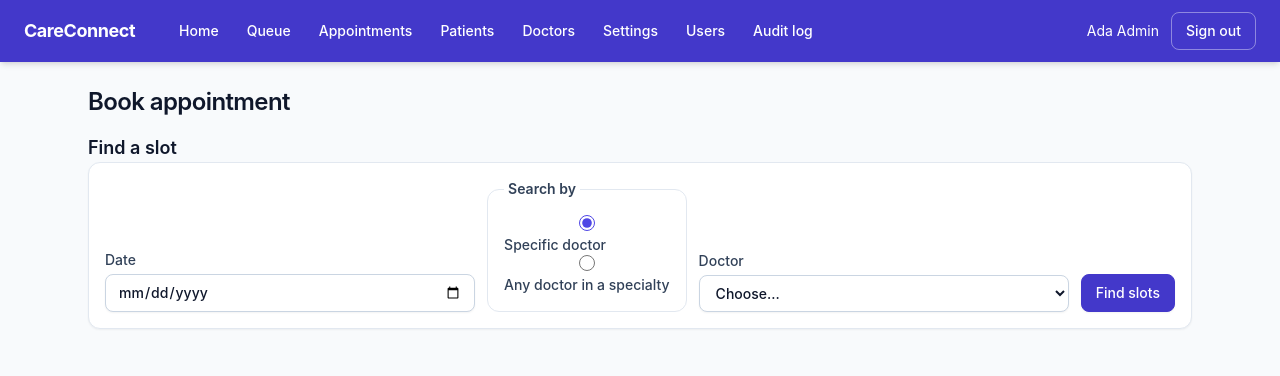
Test: Slot search › says so when there are no open slots
Type "2026-03-02" into the date field labelled "Date" at point(290, 293), box x1=105 y1=274 x2=475 y2=312
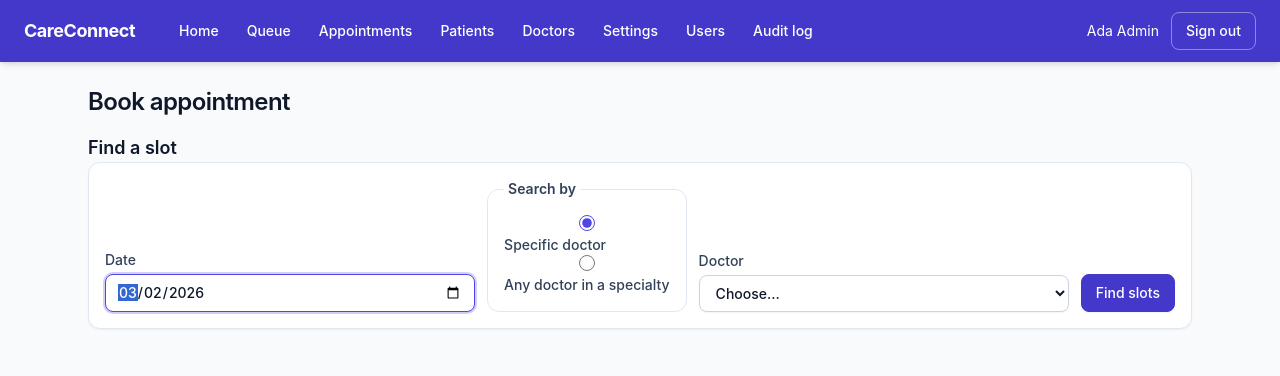
Select "Dr Eve" in the dropdown labelled "Doctor" at point(884, 294), box x1=699 y1=275 x2=1069 y2=312
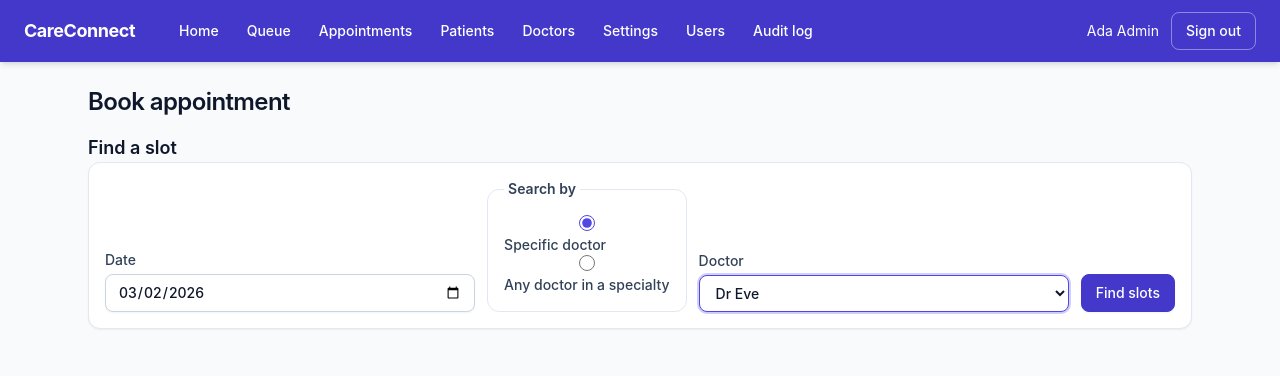
Click the button "Find slots" at point(1128, 293), box x1=1081 y1=274 x2=1175 y2=312
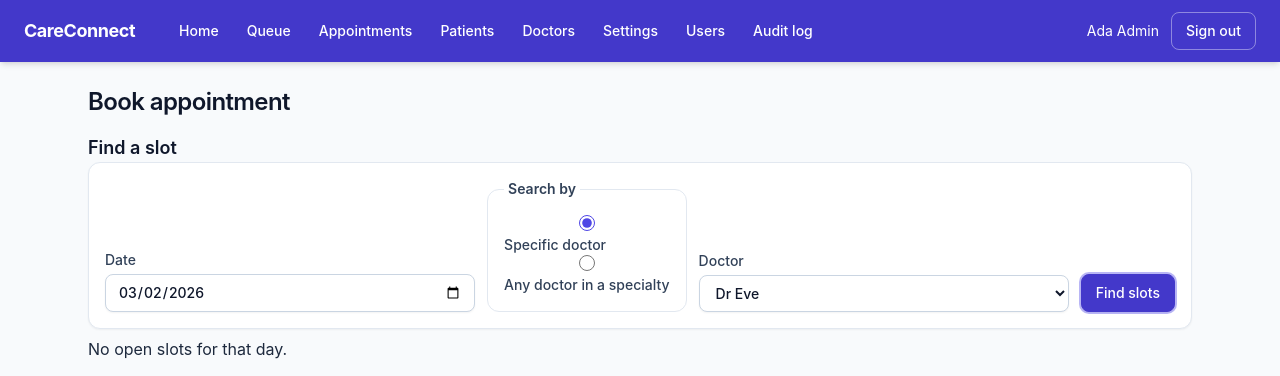
Check: the text "No open slots for that day." is shown, box x1=88 y1=339 x2=287 y2=359
